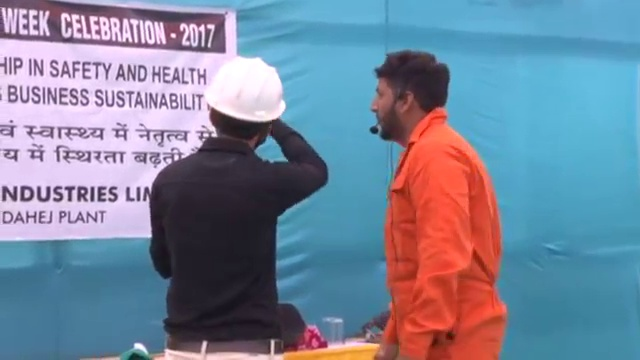helmet: (204, 54, 286, 123)
helmet_off: (366, 49, 450, 145)
helmet_on: (203, 53, 287, 150)
person: (150, 50, 328, 360), (360, 44, 510, 360)
